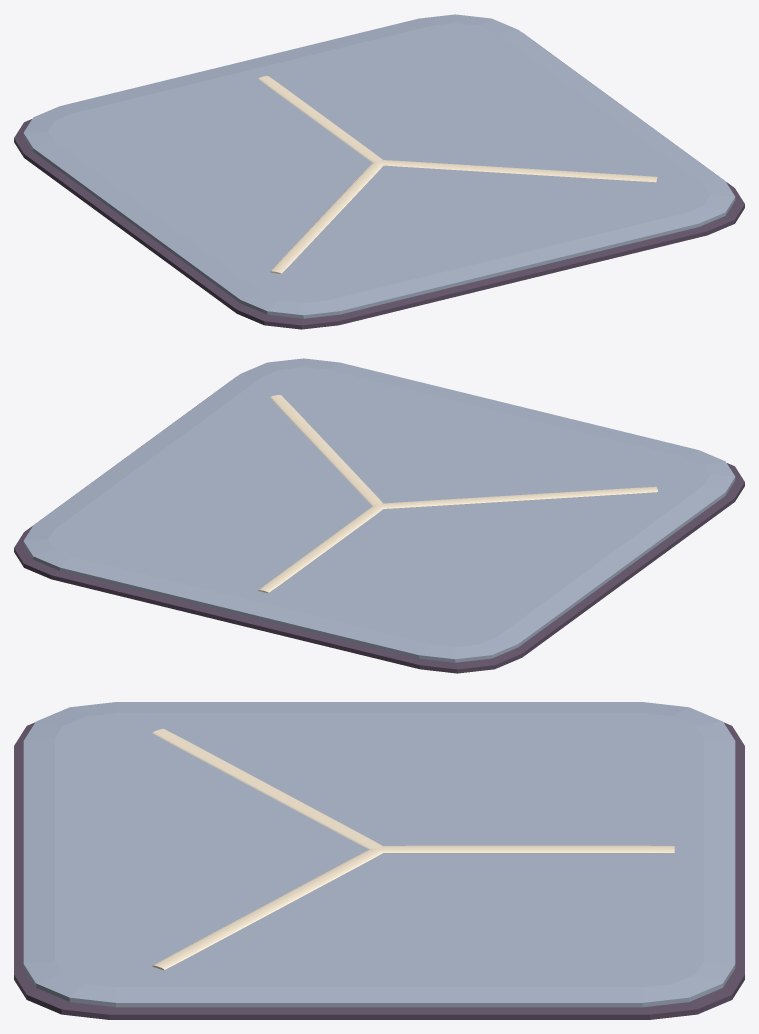
File: tile_fork.glb
3 views of the same model, one above another, from view 1: azimuth 30°, elevation 25°; view 2: azimuth 150°, elevation 25°; view 3: azimuth 270°, elevation 25° (orthographic). The views are drawn at different scales.
Visible parts, largest first — view 1: model; view 2: model; view 3: model.
Boxes of the visible parts, x1,y1,x2,y2 form: model: [14, 14, 744, 329]; model: [14, 358, 744, 673]; model: [14, 702, 744, 1019].
Size of the model in its own units: 4 by 0.12 by 4.
